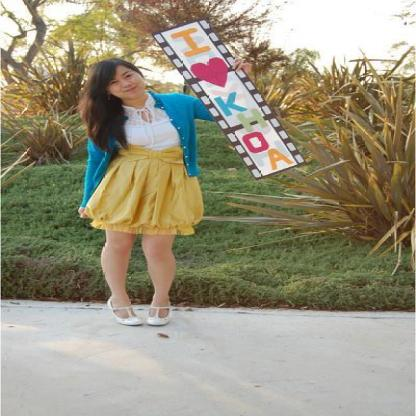jacket: (80, 92, 211, 206)
shirt: (124, 94, 179, 150)
shoe: (113, 306, 178, 326)
skirt: (78, 142, 211, 237)
